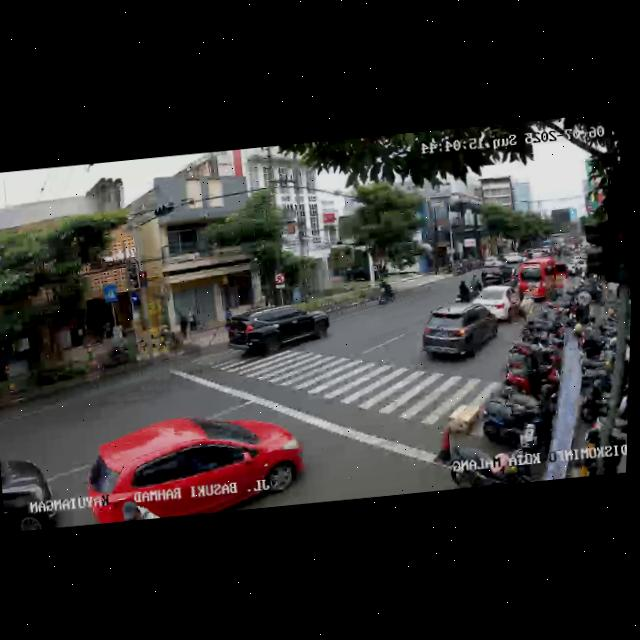car: (80, 405, 308, 525), (227, 299, 330, 360), (416, 300, 505, 366), (0, 446, 60, 533), (515, 255, 572, 304), (470, 282, 526, 323), (477, 261, 515, 290)
motorcycle: (375, 279, 397, 307), (454, 280, 476, 305), (467, 272, 485, 296)
